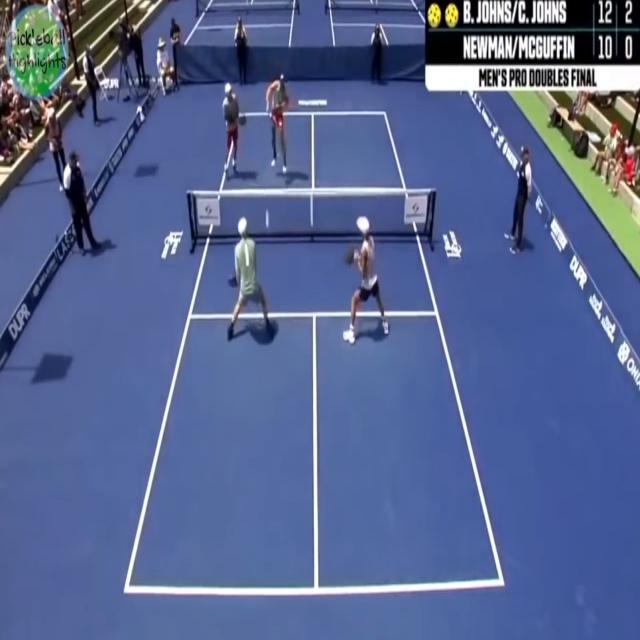ball: (261, 203, 276, 238)
